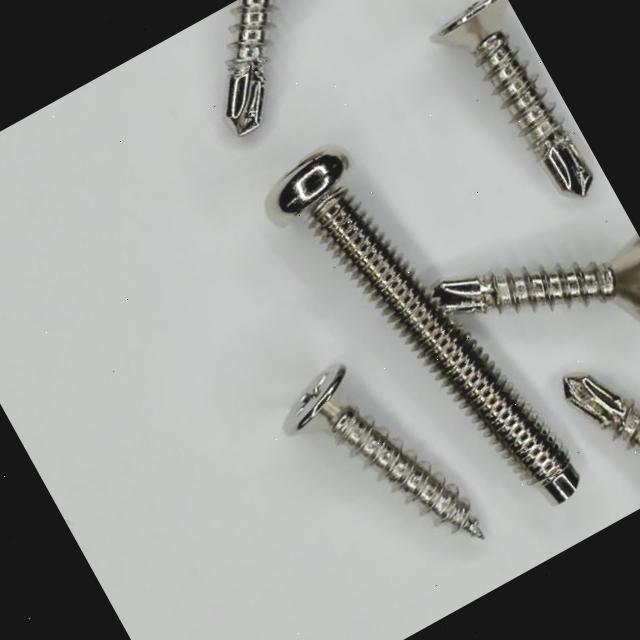Screw: (277, 152, 580, 504), (286, 368, 484, 540), (433, 0, 594, 195), (434, 237, 640, 319), (226, 0, 268, 135), (565, 378, 640, 450)
